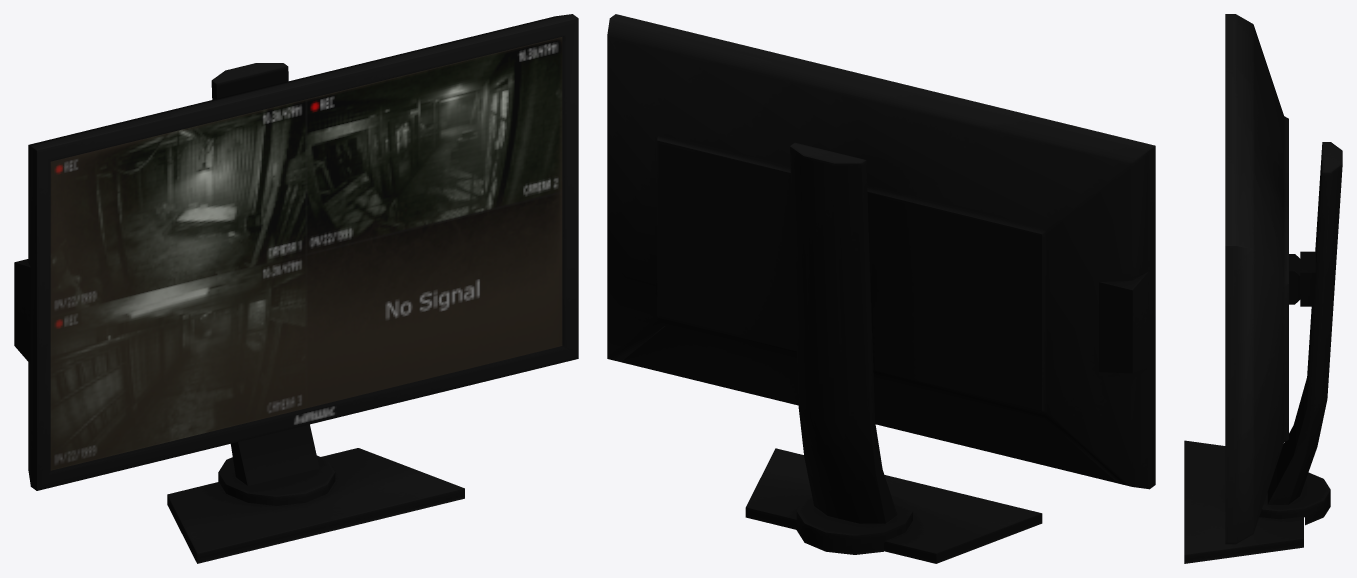
Rendered from Monitor 1.fbx.
3 renders of one model, left to right at view 1: azimuth 30°, elevation 25°; view 2: azimuth 150°, elevation 25°; view 3: azimuth 270°, elevation 25°, orthographic. The views are drawn at different scales.
Visible parts, largest first — view 1: Monitor_1; view 2: Monitor_1; view 3: Monitor_1.
Part boxes in pixels (x1,y1,x2,y2): Monitor_1: [14, 14, 578, 563]; Monitor_1: [607, 14, 1155, 563]; Monitor_1: [1184, 14, 1342, 563].
Bounding box in the file's own units: 41.69 × 31.59 × 12.04.
